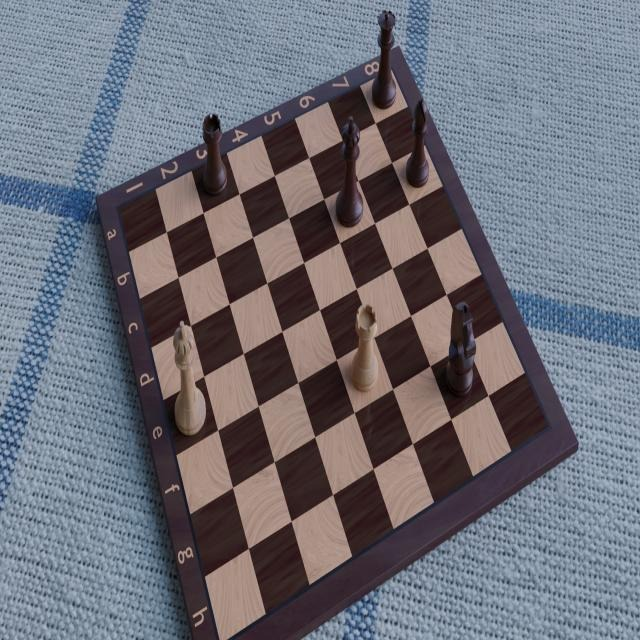black-bishop: (404, 94, 431, 192)
black-king: (333, 115, 365, 231)
black-knight: (443, 300, 477, 402)
black-rook: (200, 111, 229, 201)
white-king: (171, 318, 209, 441)
white-queen: (370, 7, 398, 112)
white-rook: (348, 302, 379, 395)
